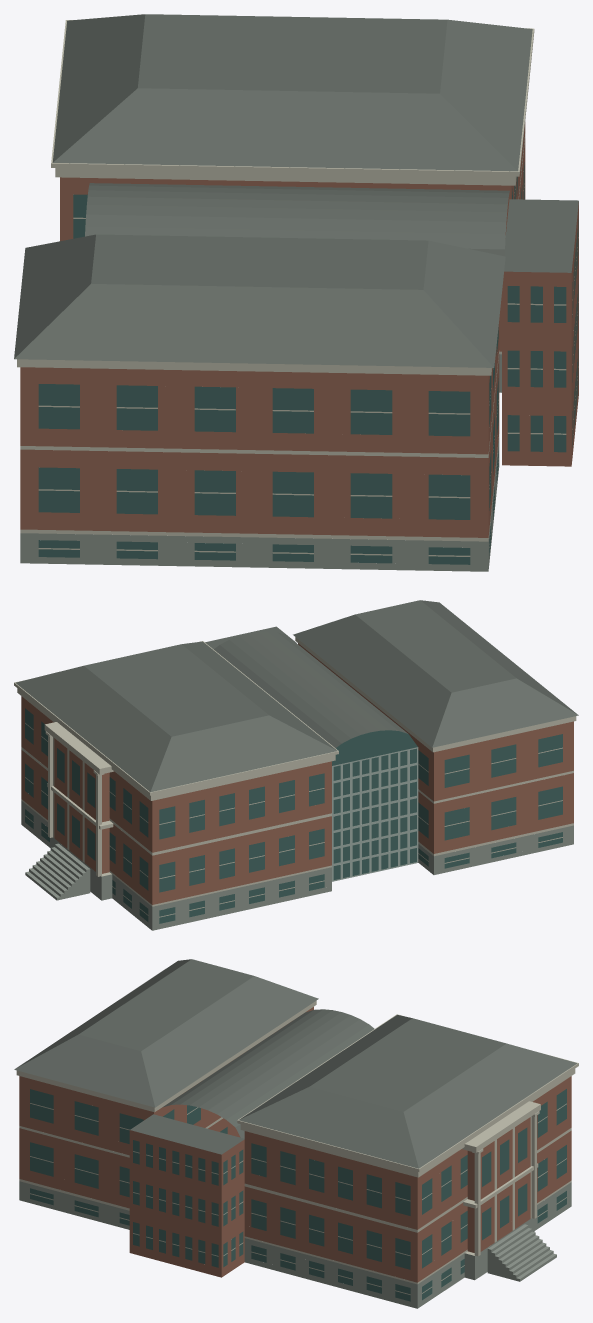
The model's file is port-coquitlam-city-hall-near.glb.
3 views of the same model, one above another, from view 1: azimuth 30°, elevation 25°; view 2: azimuth 150°, elevation 25°; view 3: azimuth 270°, elevation 25° (orthographic). The views are drawn at different scales.
Visible parts, largest first — view 1: port-coquitlam-city-hall-0-roof, port-coquitlam-city-hall-0-brick, port-coquitlam-city-hall-0-glass, port-coquitlam-city-hall-0-trim, port-coquitlam-city-hall-0-plinth; view 2: port-coquitlam-city-hall-0-roof, port-coquitlam-city-hall-0-brick, port-coquitlam-city-hall-0-glass, port-coquitlam-city-hall-0-trim, port-coquitlam-city-hall-0-plinth, port-coquitlam-city-hall-0-metal; view 3: port-coquitlam-city-hall-0-roof, port-coquitlam-city-hall-0-brick, port-coquitlam-city-hall-0-glass, port-coquitlam-city-hall-0-trim, port-coquitlam-city-hall-0-plinth.
Part boxes in pixels (box(x1,y1,x2,y2)): port-coquitlam-city-hall-0-roof: box(14, 14, 578, 367); port-coquitlam-city-hall-0-brick: box(20, 122, 578, 537); port-coquitlam-city-hall-0-glass: box(38, 162, 578, 564); port-coquitlam-city-hall-0-trim: box(17, 20, 578, 556); port-coquitlam-city-hall-0-plinth: box(20, 354, 501, 571); port-coquitlam-city-hall-0-roof: box(15, 600, 578, 792); port-coquitlam-city-hall-0-brick: box(21, 643, 573, 904); port-coquitlam-city-hall-0-glass: box(25, 708, 562, 923); port-coquitlam-city-hall-0-trim: box(14, 637, 576, 917); port-coquitlam-city-hall-0-plinth: box(21, 801, 573, 930); port-coquitlam-city-hall-0-metal: box(332, 747, 418, 881); port-coquitlam-city-hall-0-roof: box(14, 959, 577, 1168); port-coquitlam-city-hall-0-brick: box(19, 1007, 571, 1282); port-coquitlam-city-hall-0-glass: box(30, 1089, 566, 1301); port-coquitlam-city-hall-0-trim: box(16, 1000, 578, 1294); port-coquitlam-city-hall-0-plinth: box(19, 1181, 571, 1308).
Bounding box in the file's own units: 40.67 × 14.6 × 44.13.
